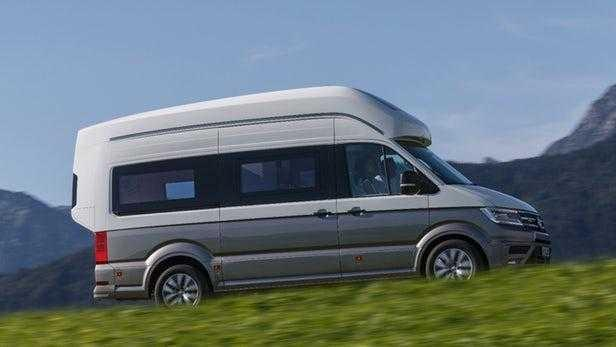car: (73, 82, 548, 307)
